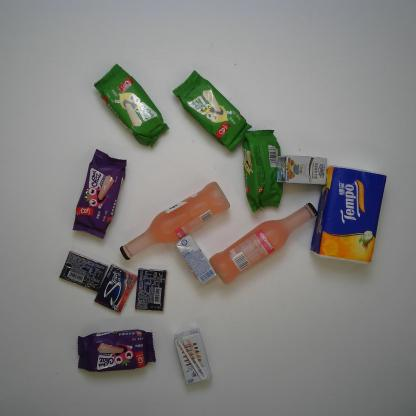Alcohol: (208, 201, 319, 287), (118, 180, 233, 262)
Dessert: (170, 68, 253, 153), (92, 62, 170, 151), (70, 147, 127, 241), (240, 126, 286, 216), (76, 327, 157, 374)
Gum: (93, 263, 139, 314), (57, 250, 109, 293), (134, 266, 168, 312)
Milk: (171, 326, 214, 388), (175, 232, 218, 286), (275, 153, 329, 188)
Tissue: (308, 163, 388, 265)
